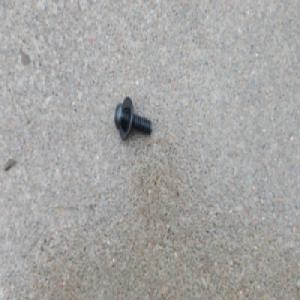BoltWasher: (115, 95, 153, 141)
